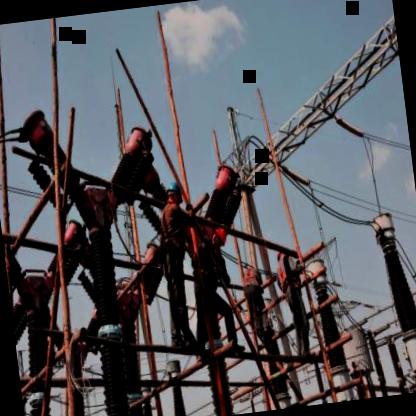helmet: (163, 178, 186, 209), (209, 224, 230, 247)
